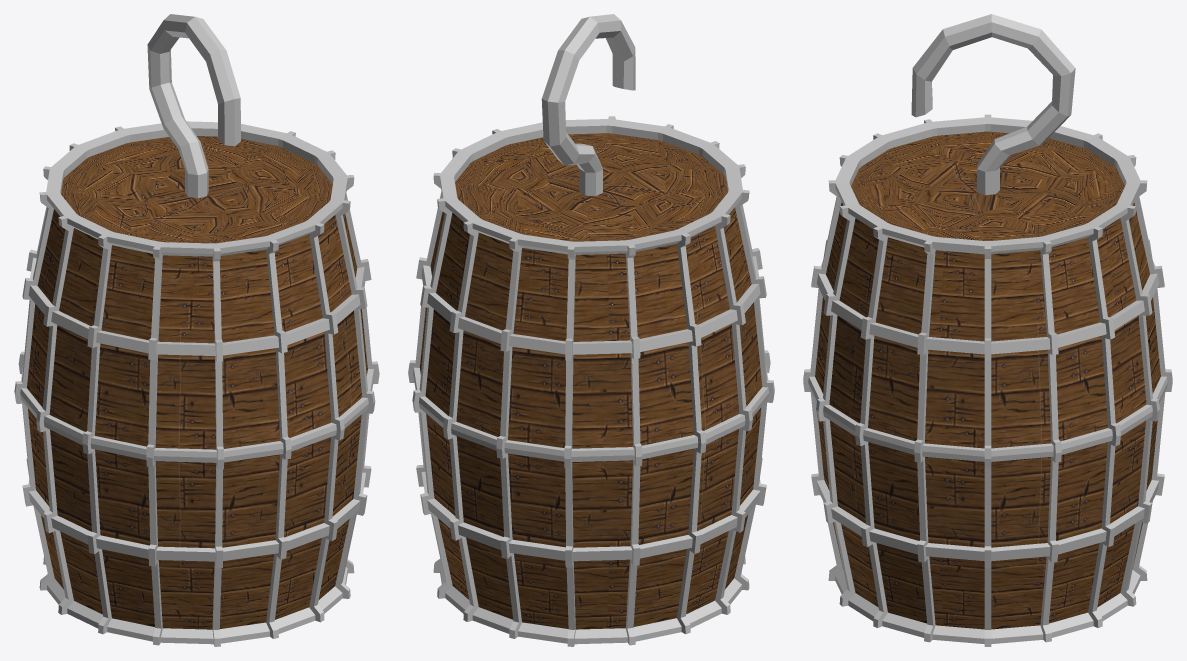
File: barril.fbx
3 renders of one model, left to right at view 1: azimuth 30°, elevation 25°; view 2: azimuth 150°, elevation 25°; view 3: azimuth 270°, elevation 25°, orthographic.
Parts seen in each view (by area): view 1: barril; view 2: barril; view 3: barril.
Boxes of the visible parts, x1=… form: barril: x1=14, y1=14, x2=379, y2=646; barril: x1=408, y1=14, x2=774, y2=646; barril: x1=803, y1=14, x2=1172, y2=646.
Bounding box in the file's own units: 434 × 732 × 434.
2 materials, 1 textured.
